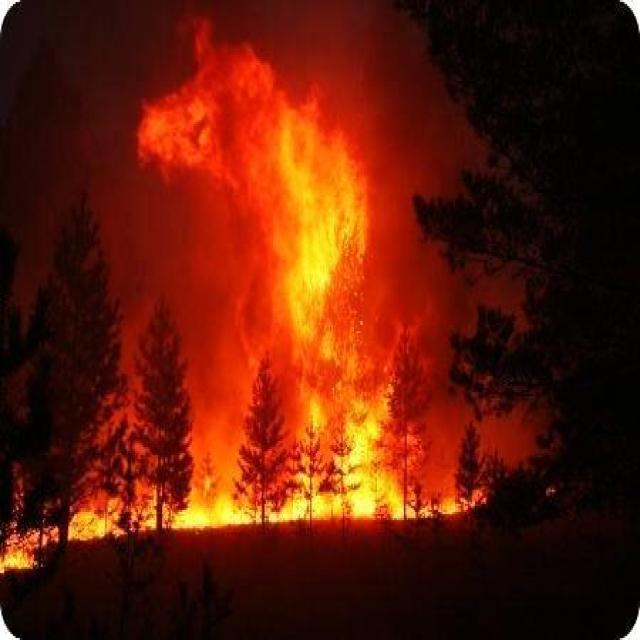fire: (16, 28, 496, 569)
